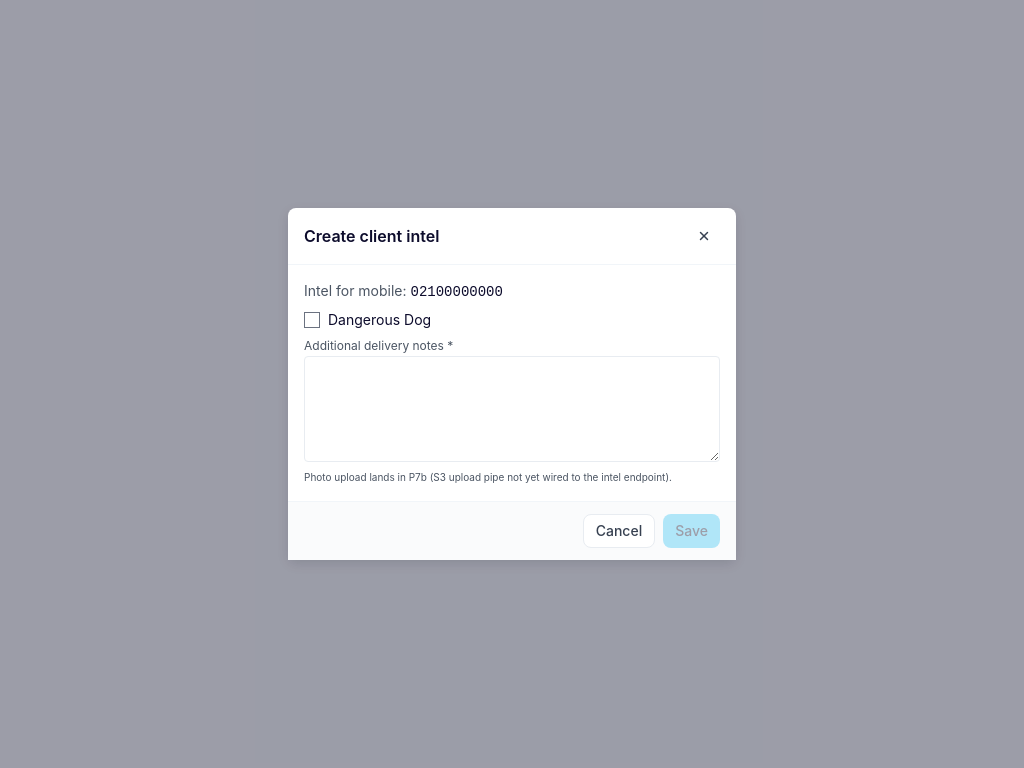
it: CreateIntelDialog › surfaces server error inline on 500
Type "note" into the text box.
click(512, 409); type("note")  # box [304,356,720,462]
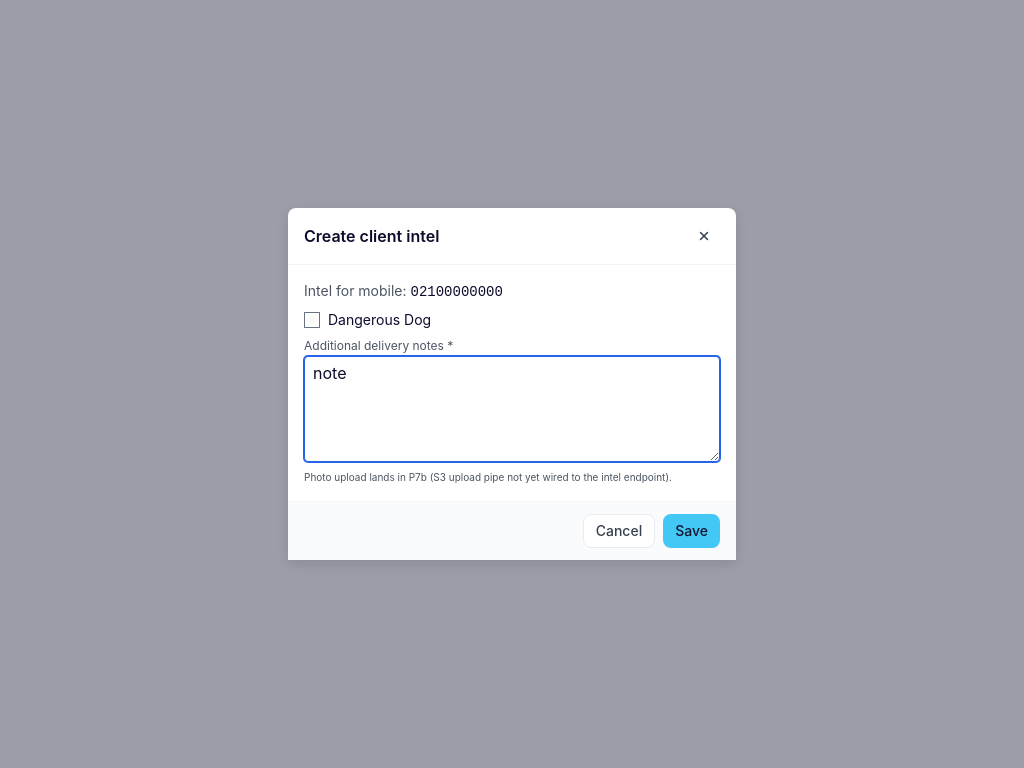
Click the button "Save".
click(692, 531)  # box [663,514,720,548]
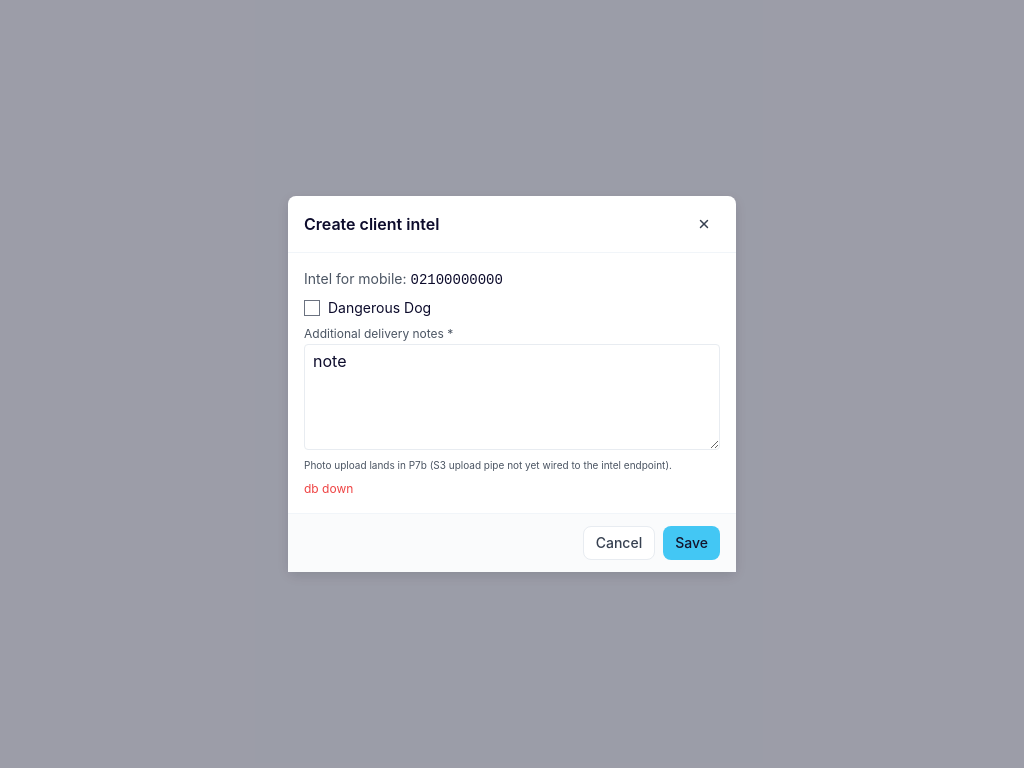
Expected: the text "db down" is shown, [304,481,353,496]
